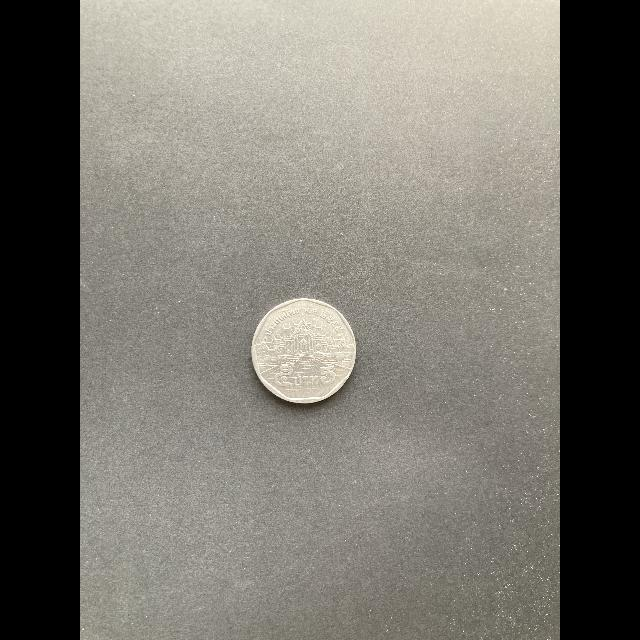5 Bath: (252, 296, 360, 411)
